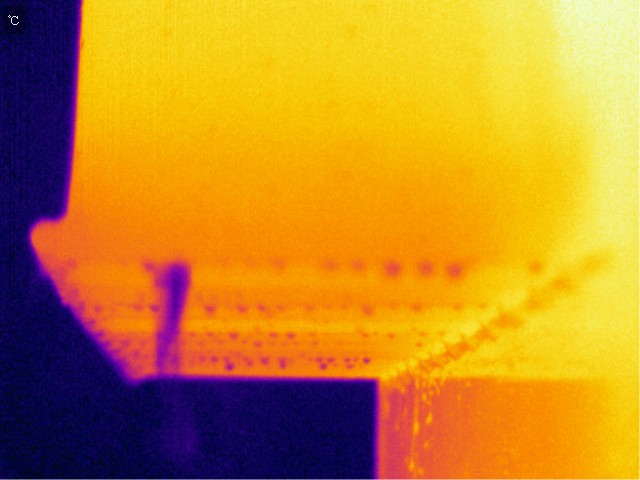Water: (145, 255, 194, 374), (207, 353, 240, 371), (312, 352, 332, 376), (381, 259, 405, 276), (417, 261, 438, 280), (269, 328, 298, 341), (445, 261, 465, 278), (354, 354, 375, 369), (277, 354, 291, 372), (234, 301, 251, 315), (256, 353, 272, 367), (225, 328, 242, 341), (342, 354, 353, 371), (327, 348, 338, 363)
